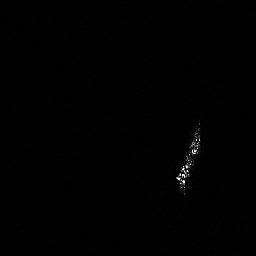ship: (174, 126, 201, 194)
